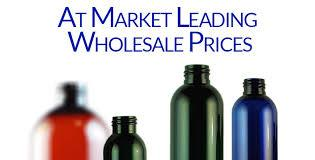Container for household chemicals: (167, 65, 230, 160), (232, 69, 285, 160), (101, 110, 147, 160)
